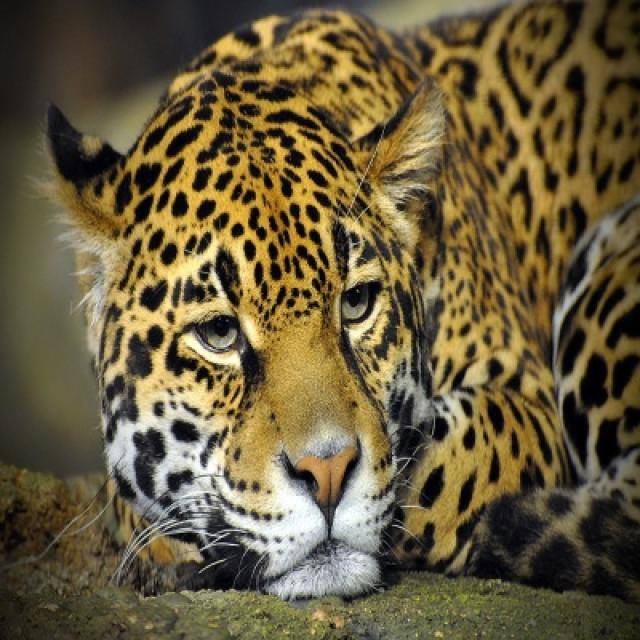Jaguar: (43, 0, 638, 608)
